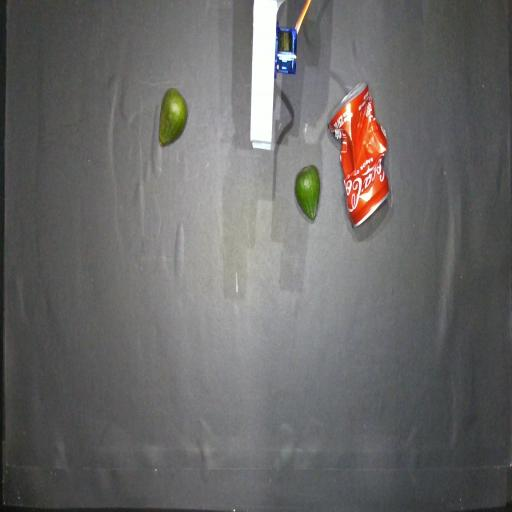higo: (159, 89, 188, 145), (294, 165, 320, 220)
lata_defectuoso: (328, 82, 389, 226)
